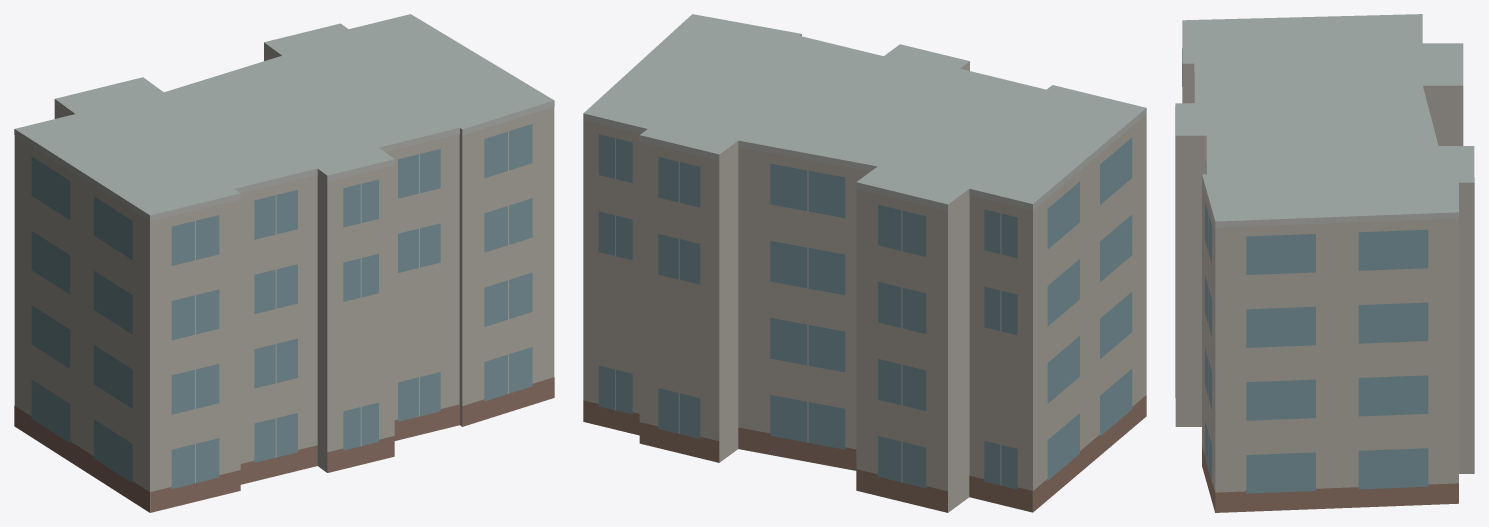
Rendered from survey-upis-32758371.glb.
3 views of the same model, side by side, from view 1: azimuth 30°, elevation 25°; view 2: azimuth 150°, elevation 25°; view 3: azimuth 270°, elevation 25° (orthographic). The views are drawn at different scales.
Visible parts, largest first — view 1: survey-upis-32758371.tmp; view 2: survey-upis-32758371.tmp; view 3: survey-upis-32758371.tmp.
Part boxes in pixels (box(x1,y1,x2,y2)): survey-upis-32758371.tmp: box(14, 14, 554, 512); survey-upis-32758371.tmp: box(583, 14, 1146, 512); survey-upis-32758371.tmp: box(1175, 14, 1474, 512).
Bounding box in the file's own units: 18.04 × 11.8 × 10.99.
